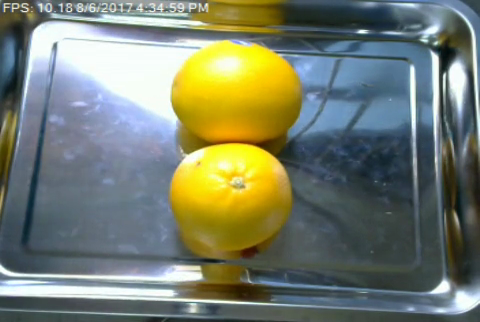Orange: (169, 37, 302, 144), (168, 142, 291, 250)
